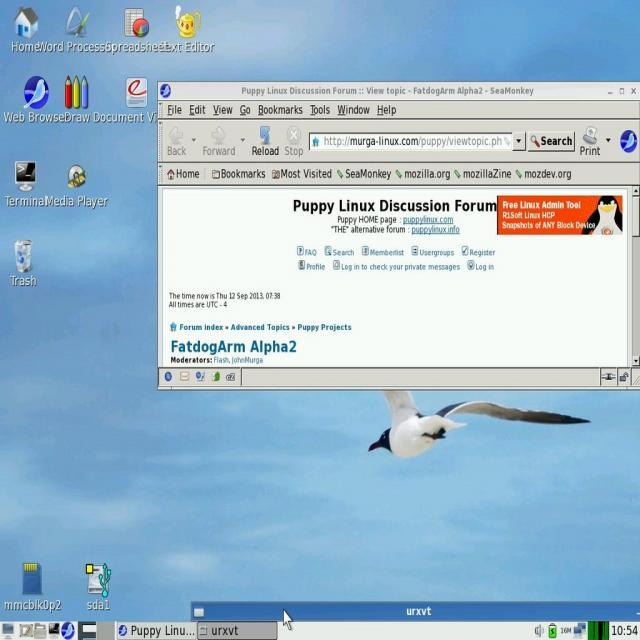others: (160, 85, 640, 395)
